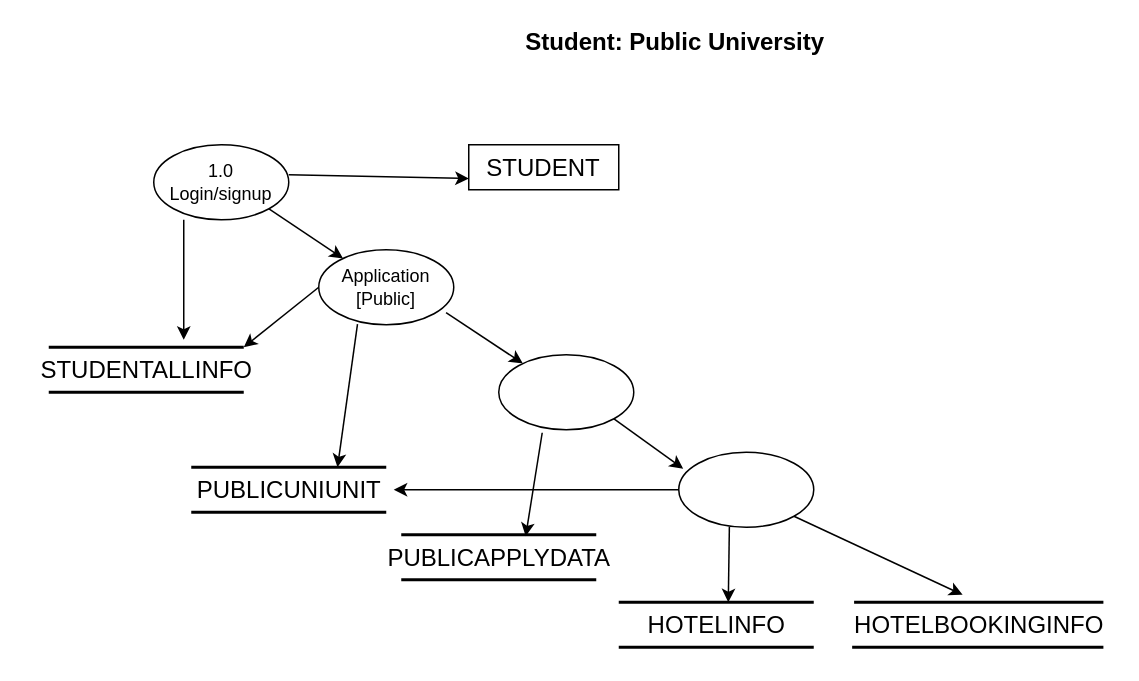
The diagram is 1139 pixels wide and 681 high, and some of its shapes have lost their labels. The shapes that lost their labels are listed below. From the top down, each one's centre as x and y in pixels, then its label:
At [565,391]: "Apply".
At [745,489]: "Hotel Booking".
